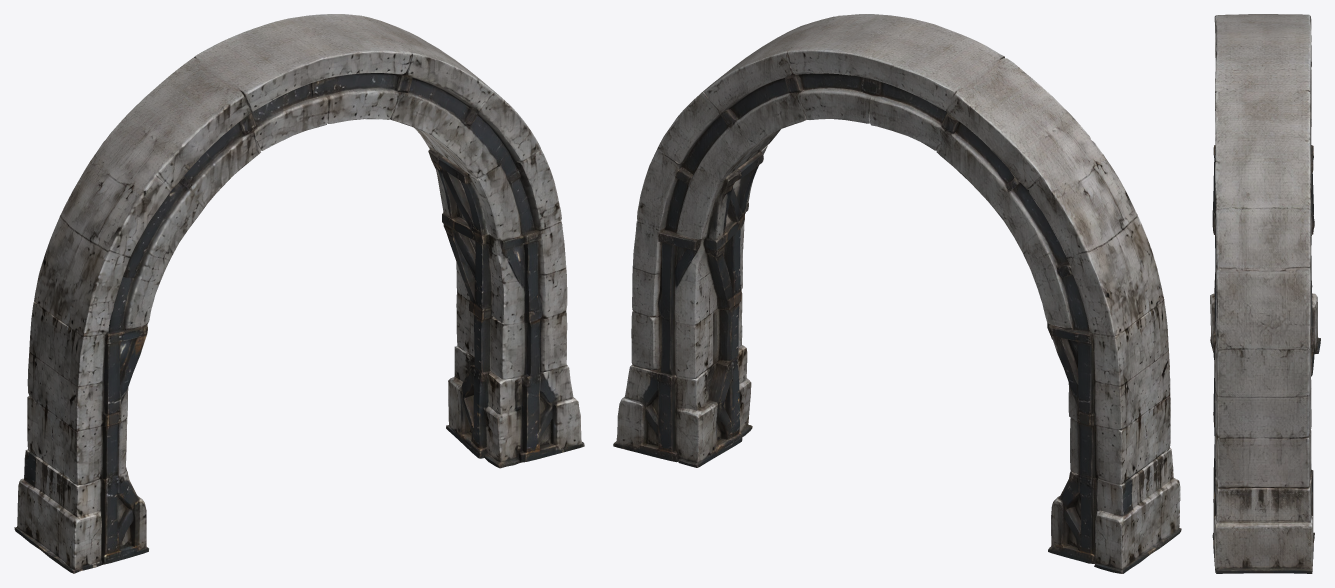
The model's file is MAP-A-ARCH-01-lod0.glb.
3 renders of one model, left to right at view 1: azimuth 30°, elevation 25°; view 2: azimuth 150°, elevation 25°; view 3: azimuth 270°, elevation 25°, orthographic. The views are drawn at different scales.
Visible parts, largest first — view 1: Mesh; view 2: Mesh; view 3: Mesh.
Part boxes in pixels (x1,y1,x2,y2): Mesh: (14,14,584,573); Mesh: (613,14,1181,573); Mesh: (1210,14,1320,573).
Size of the model in its own units: 1.9 by 1.6 by 0.3816.
Materials: 1 (1 with a texture image).
